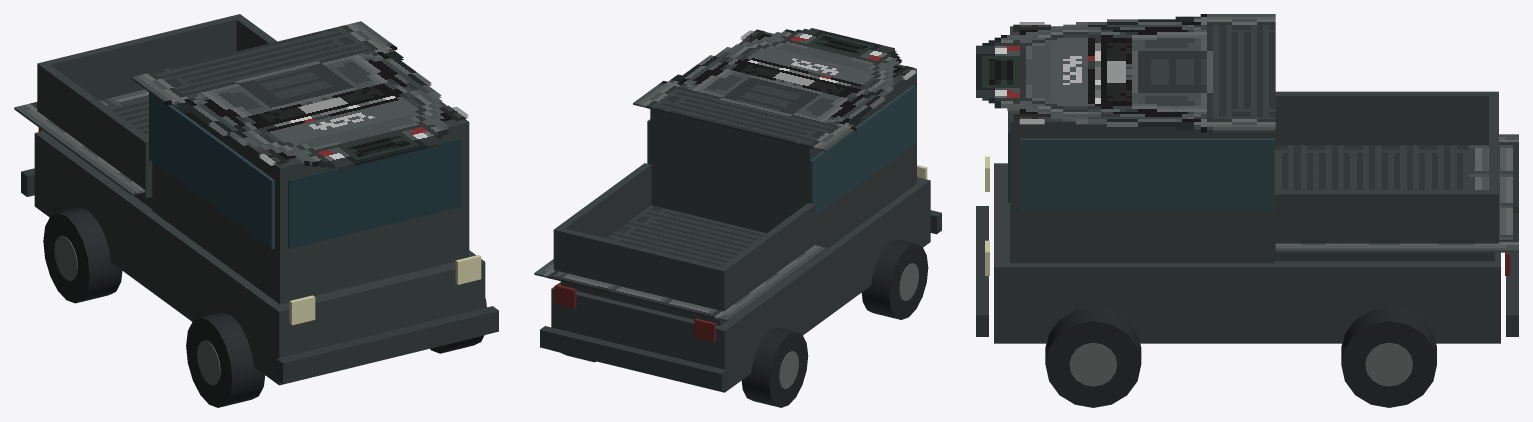
File: CMU3DReduxAU14VehicleCivTruck.glb
3 renders of one model, left to right at view 1: azimuth 30°, elevation 25°; view 2: azimuth 150°, elevation 25°; view 3: azimuth 270°, elevation 25°, orthographic. The views are drawn at different scales.
Visible parts, largest first — view 1: source hull roof panel (×4), closed lower chassis, upper hull, cab windscreen, road tire (×2), cab side window, tailgate, cargo side wall (×2), front bumper, wheel hub (×2), front light (×2); view 2: source hull roof panel (×4), upper hull, closed lower chassis, cargo side wall (×2), tailgate, road tire (×2), cab side window, rear bumper, wheel hub (×2), cargo deck, rear marker (×2); view 3: source hull roof panel (×4), closed lower chassis, cargo side wall (×2), cab side window, upper hull, road tire (×2), wheel hub (×2), cargo deck, front bumper, tailgate, rear bumper.
Boxes of the visible parts, box(x1,y1,x2,y2) form: source hull roof panel (×4): box(14, 21, 468, 195); closed lower chassis: box(34, 131, 485, 385); upper hull: box(152, 101, 469, 304); cab windscreen: box(288, 138, 461, 248); road tire (×2): box(43, 207, 265, 407); cab side window: box(149, 92, 274, 249); tailgate: box(37, 14, 242, 112); cargo side wall (×2): box(37, 14, 277, 198); front bumper: box(276, 306, 498, 384); wheel hub (×2): box(54, 235, 220, 385); front light (×2): box(289, 255, 481, 325); source hull roof panel (×4): box(534, 28, 916, 321); upper hull: box(650, 32, 916, 261); closed lower chassis: box(551, 177, 930, 392); cargo side wall (×2): box(553, 163, 815, 311); tailgate: box(553, 228, 728, 311); road tire (×2): box(741, 239, 928, 407); cab side window: box(809, 85, 915, 216); rear bumper: box(540, 326, 726, 391); wheel hub (×2): box(779, 263, 918, 388); cargo deck: box(561, 281, 725, 325); rear marker (×2): box(554, 284, 715, 341); source hull roof panel (×4): box(976, 14, 1518, 252); closed lower chassis: box(994, 163, 1500, 343); cargo side wall (×2): box(1274, 91, 1498, 251); cab side window: box(1020, 138, 1274, 210); upper hull: box(1010, 26, 1274, 263); road tire (×2): box(1045, 307, 1436, 407); wheel hub (×2): box(1069, 343, 1412, 386); cargo deck: box(1274, 148, 1494, 261); front bumper: box(976, 206, 988, 336); tailgate: box(1489, 92, 1498, 243); rear bumper: box(1506, 252, 1518, 336).
Size of the model in its own units: 1.54 by 1.49 by 2.72.
12 materials, 4 textured.
